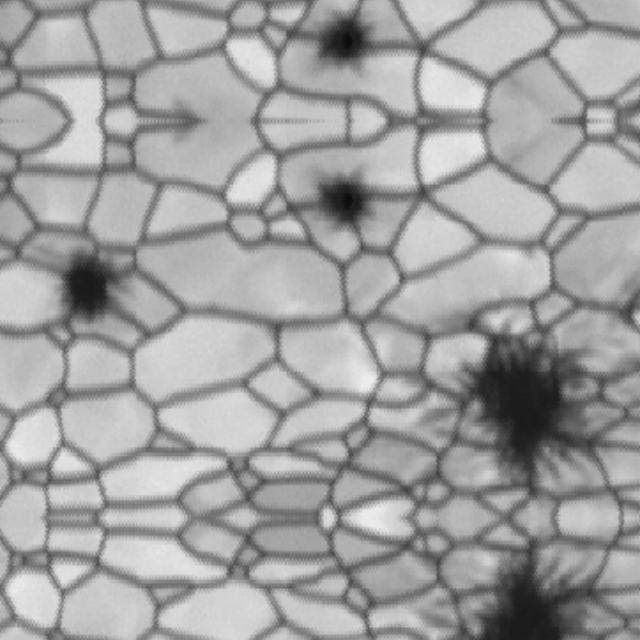good_void: (433, 316, 606, 509), (433, 529, 606, 640), (37, 235, 138, 332), (306, 159, 388, 251), (306, 0, 388, 83)
